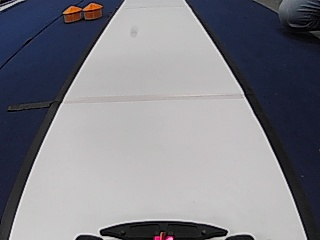granary: (62, 5, 82, 23), (84, 3, 103, 20)
